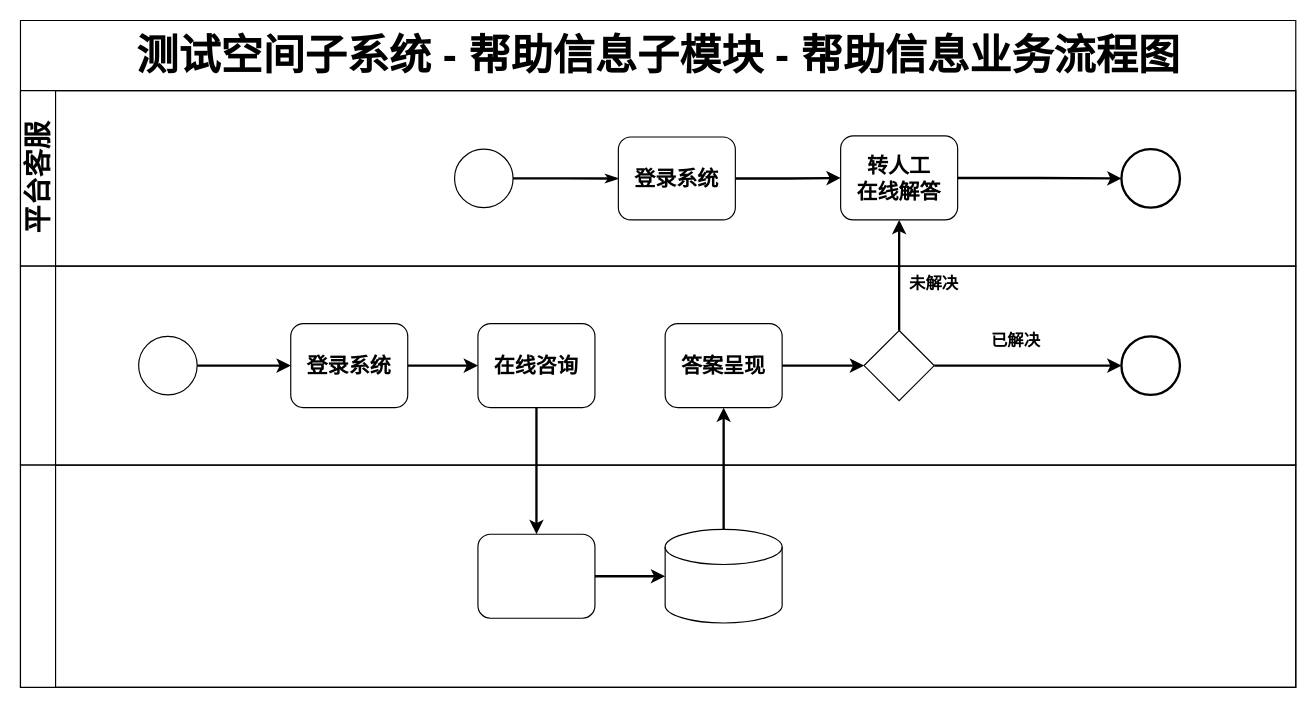
The diagram is 1316 pixels wide and 708 high, and some of its shapes have lost their labels. Here are the shapes that lost their labels. From the top down, the box of each, then its label:
(19, 265, 1296, 465): 普通人员
(477, 533, 595, 618): 在线回复机器人
(19, 464, 1296, 687): 帮助信息模块
(664, 528, 782, 623): 标准答案库
